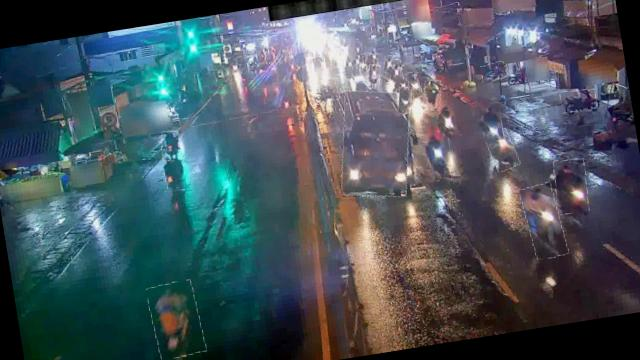Bike: (147, 278, 206, 360), (520, 182, 567, 261), (552, 157, 590, 215), (486, 128, 519, 172), (422, 138, 453, 173), (478, 102, 504, 143), (162, 153, 188, 192), (560, 88, 598, 114), (159, 128, 182, 162), (432, 112, 460, 139), (311, 77, 339, 103), (421, 78, 443, 109), (395, 85, 414, 115), (479, 61, 506, 82), (366, 63, 384, 89), (406, 70, 422, 99), (388, 60, 404, 82), (382, 55, 395, 74)
Bus: (332, 84, 421, 202)
